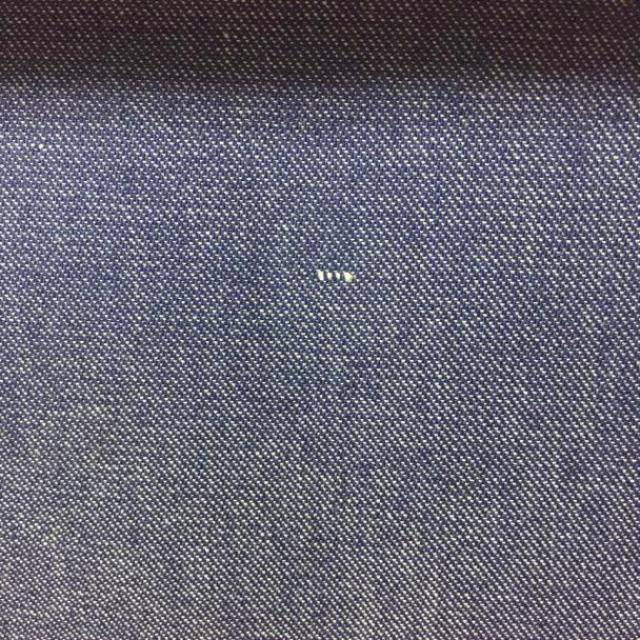Knot: (316, 271, 356, 284)
